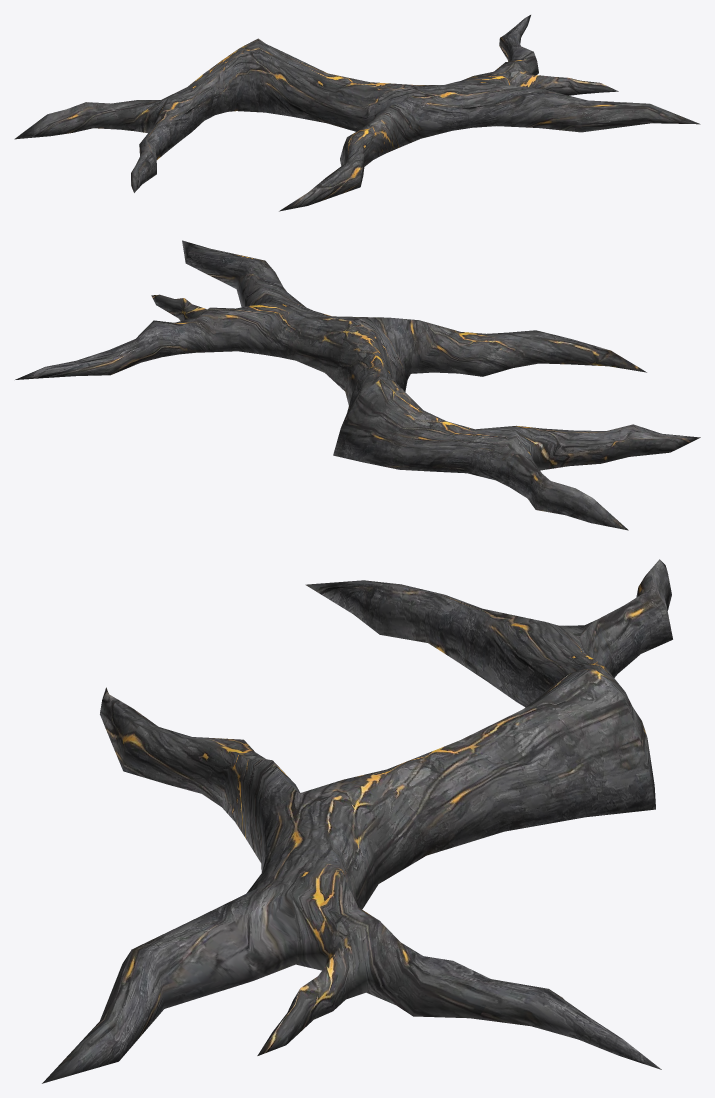
The picture shows the model from 3 angles, top to bottom: view 1: azimuth 30°, elevation 25°; view 2: azimuth 150°, elevation 25°; view 3: azimuth 270°, elevation 25°; orthographic projection. The views are drawn at different scales.
Bounding box in the file's own units: 15.66 × 1.67 × 8.06.
Materials: 1 (1 with a texture image).
